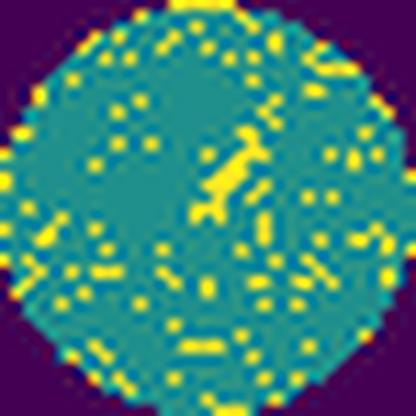Loc: (184, 126, 271, 226)
